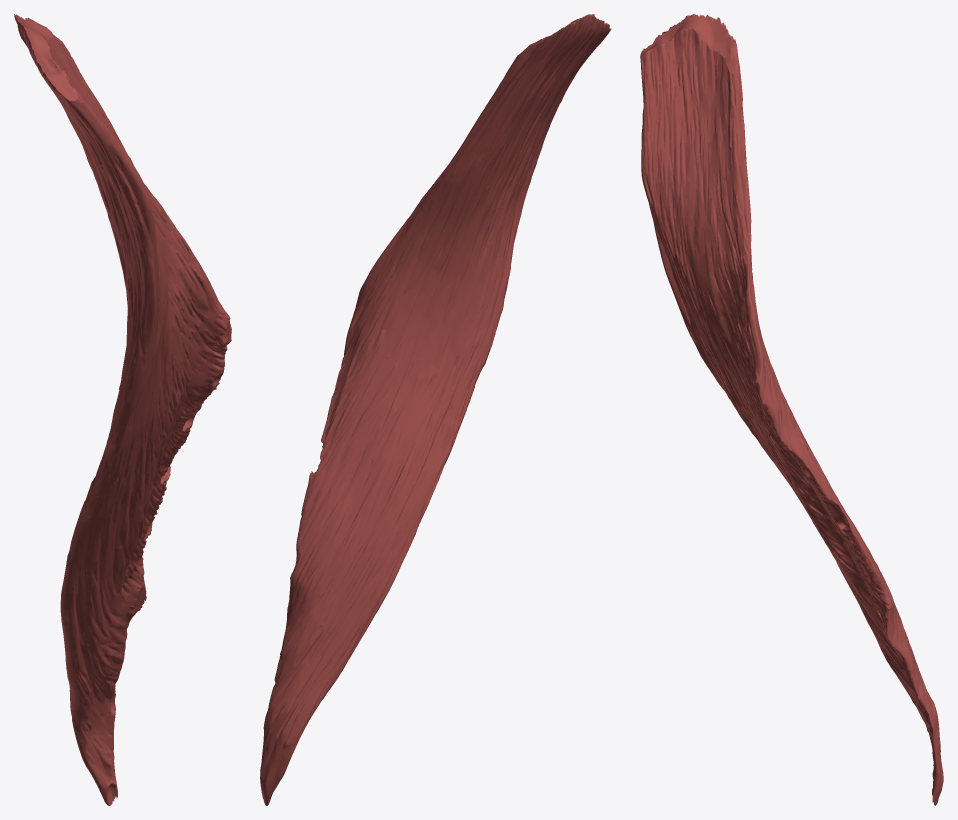
File: FMA22728.glb
3 views of the same model, side by side, from view 1: azimuth 30°, elevation 25°; view 2: azimuth 150°, elevation 25°; view 3: azimuth 270°, elevation 25° (orthographic). The views are drawn at different scales.
Visible parts, largest first — view 1: FMA22728; view 2: FMA22728; view 3: FMA22728.
Part boxes in pixels (x1=…): FMA22728: x1=14, y1=14, x2=231, y2=805; FMA22728: x1=260, y1=14, x2=611, y2=805; FMA22728: x1=640, y1=14, x2=943, y2=805.
Bounding box in the file's own units: 0.0594 × 0.2088 × 0.0817.
